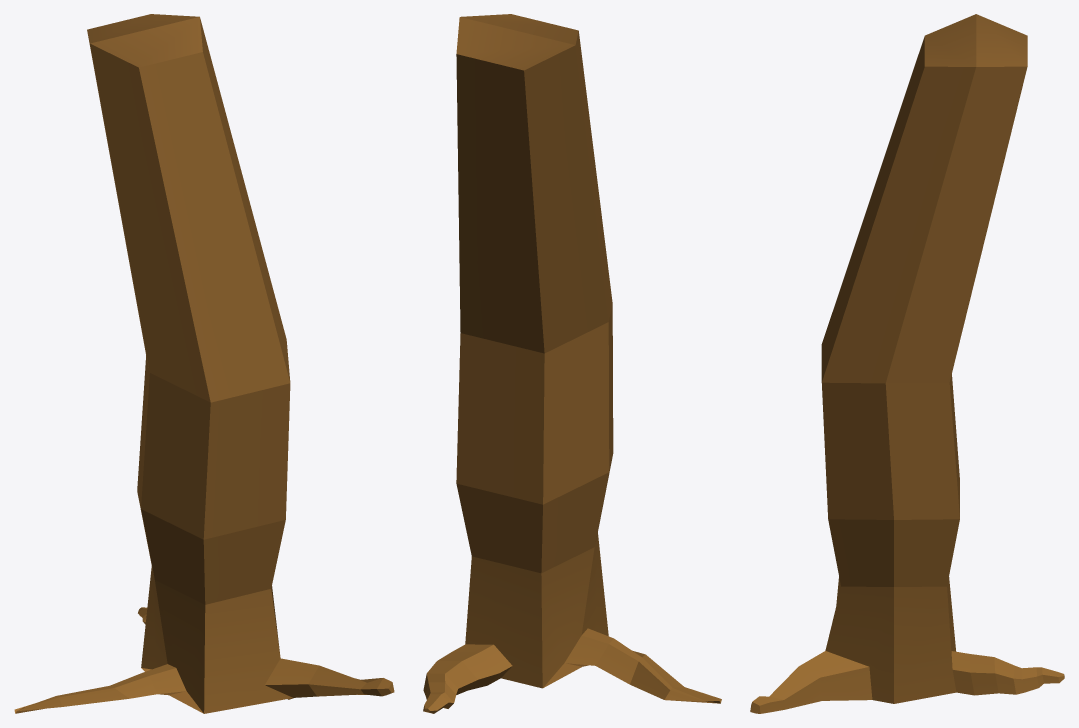
The model's file is Tree.fbx.
3 renders of one model, left to right at view 1: azimuth 30°, elevation 25°; view 2: azimuth 150°, elevation 25°; view 3: azimuth 270°, elevation 25°, orthographic. The views are drawn at different scales.
Parts seen in each view (by area): view 1: Tree; view 2: Tree; view 3: Tree.
Boxes of the visible parts, x1,y1,x2,y2 form: Tree: (14, 14, 394, 713); Tree: (423, 14, 721, 713); Tree: (750, 14, 1064, 713).
Bounding box in the file's own units: 49.27 × 101 × 45.46.
